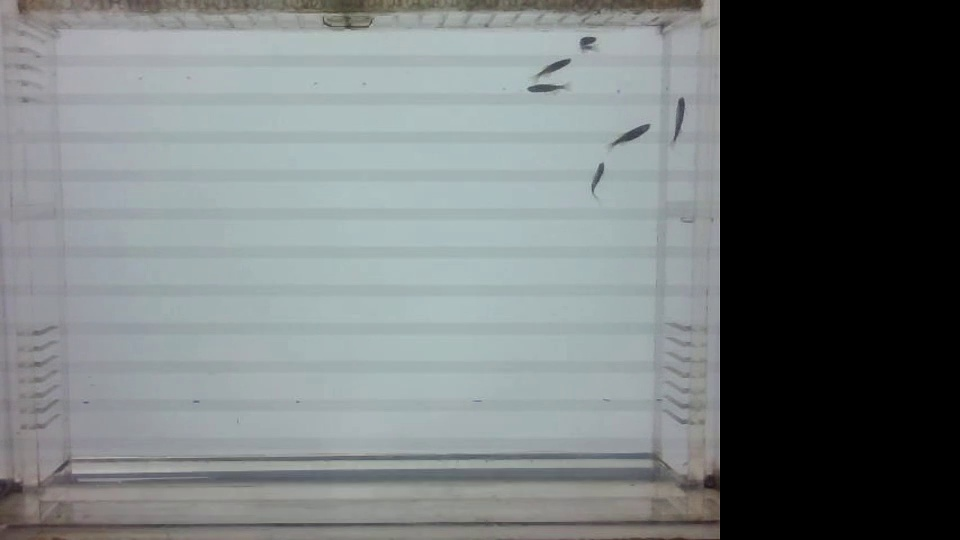fish: (593, 120, 656, 150), (662, 93, 690, 149), (528, 49, 572, 84), (580, 153, 612, 196), (520, 78, 576, 100), (572, 32, 604, 60)
